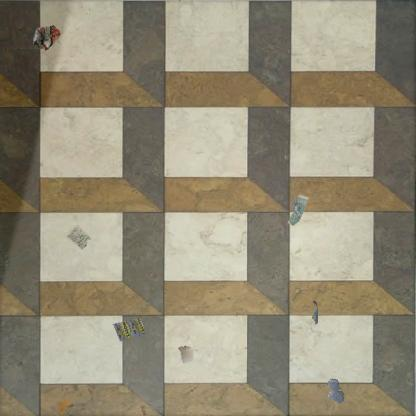dirty: (64, 222, 94, 254), (112, 316, 146, 344), (32, 23, 62, 54), (286, 192, 310, 228), (176, 344, 199, 364), (310, 300, 319, 324)
liquid: (326, 377, 346, 405), (57, 394, 70, 416)
